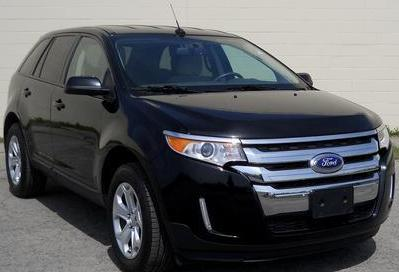front_view: (156, 112, 399, 252)
headlight: (153, 123, 255, 166)
side_glass: (31, 36, 136, 101)
